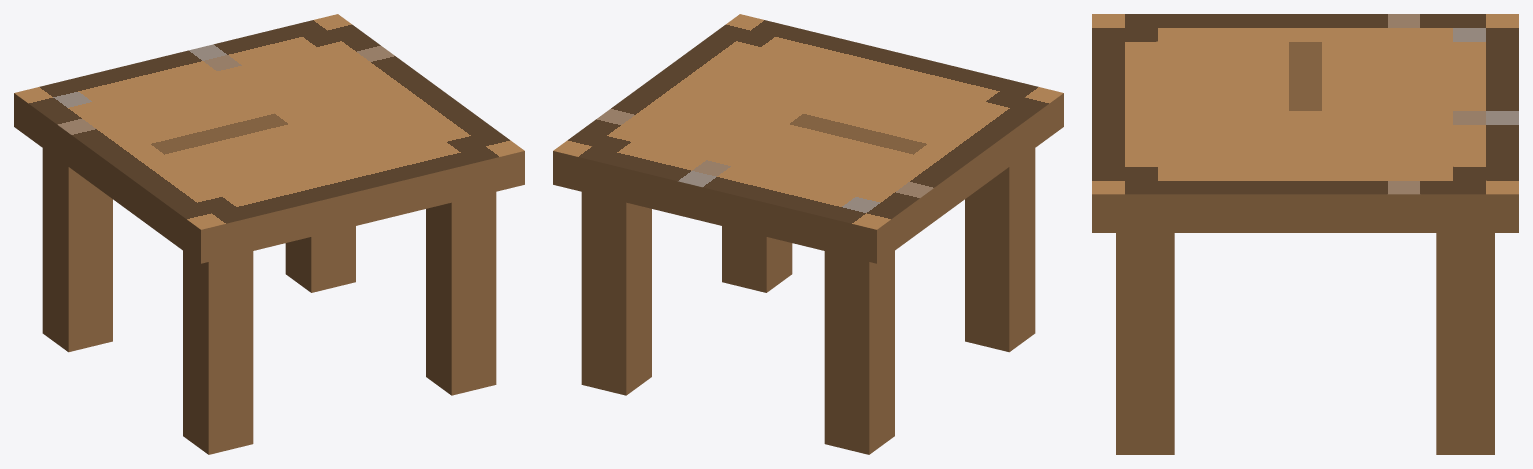
The model's file is PlantStandShort.obj.
3 views of the same model, side by side, from view 1: azimuth 30°, elevation 25°; view 2: azimuth 150°, elevation 25°; view 3: azimuth 270°, elevation 25° (orthographic). The views are drawn at different scales.
Visible parts, largest first — view 1: PlantStandShort; view 2: PlantStandShort; view 3: PlantStandShort.
Part boxes in pixels (left/top/right/bottom): PlantStandShort: left=14, top=14, right=524, bottom=454; PlantStandShort: left=553, top=14, right=1063, bottom=454; PlantStandShort: left=1092, top=14, right=1518, bottom=454.
Size of the model in its own units: 0.4 by 0.28 by 0.4.
1 material, 1 textured.
